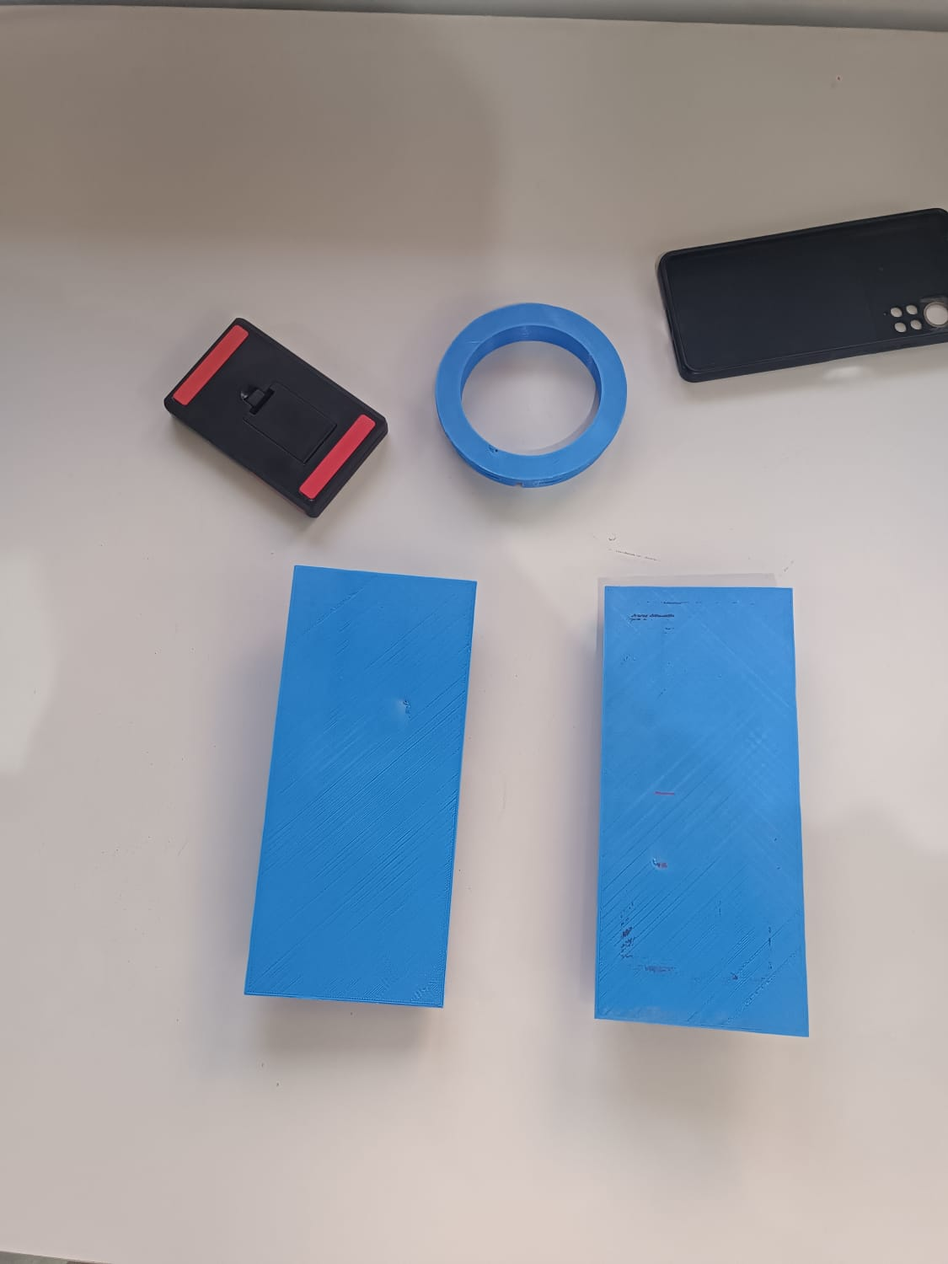Circle: (421, 299, 637, 502)
Rectangular: (236, 556, 484, 1023), (583, 581, 820, 1042)
